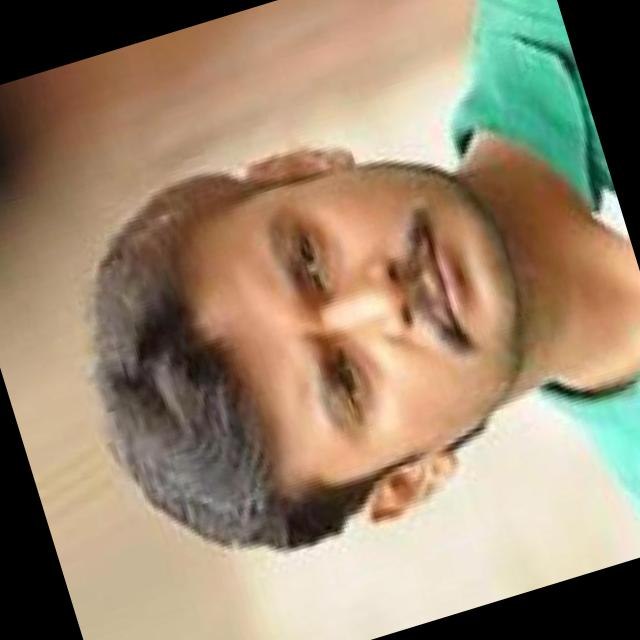bareface: (70, 132, 560, 572)
